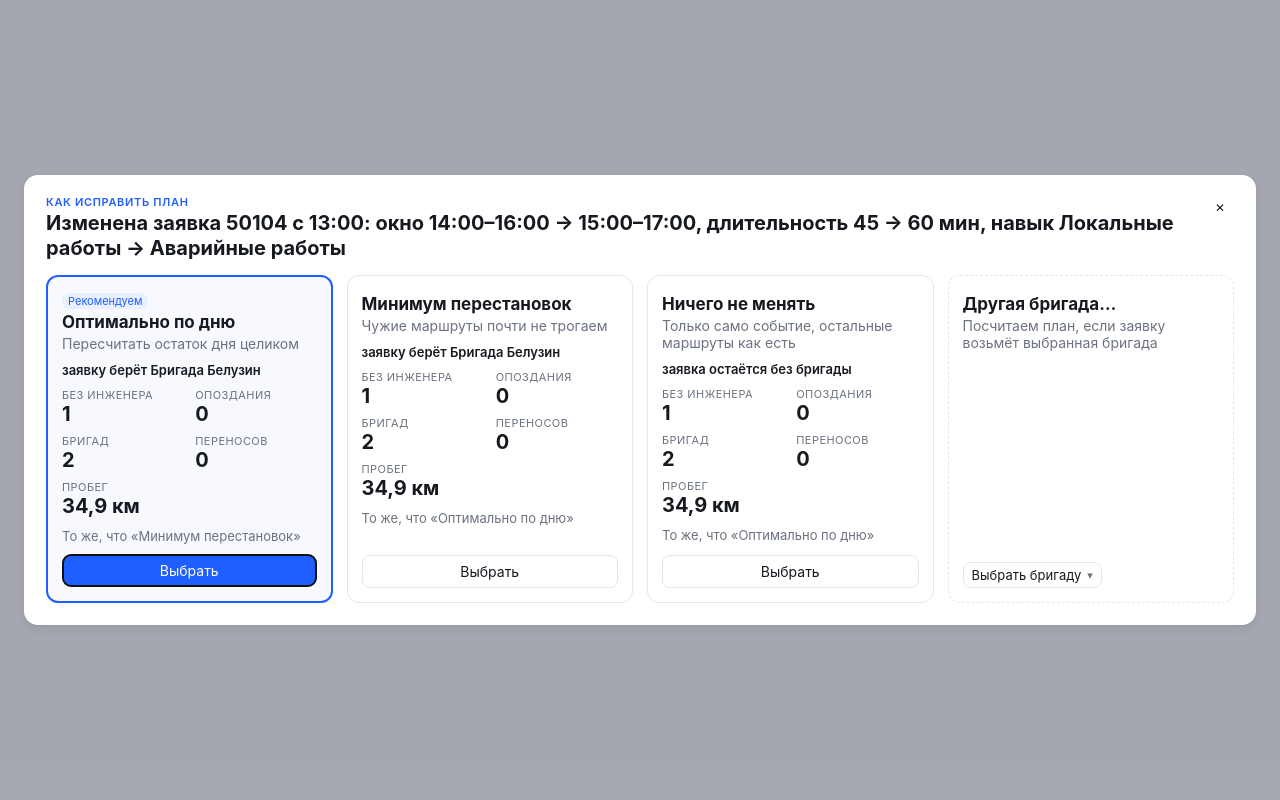
Test: ChoiceDialog: отдать заявку бригаде › offers the fourth card and names the brigade for an edit of a request, like for an urgent one
Expected: the text "заявку берёт Бригада Белузин" below "Пересчитать остаток дня целиком" is shown, [62,362,261,378]
Expected: the text "заявка остаётся без бригады" is shown, [662,361,852,377]
// Список бригад судит по заявке после изменения: без аварийного навыка её не взять.
Click the button "Выбрать бригаду ▾" at (1032, 575), box [962,562,1102,588]
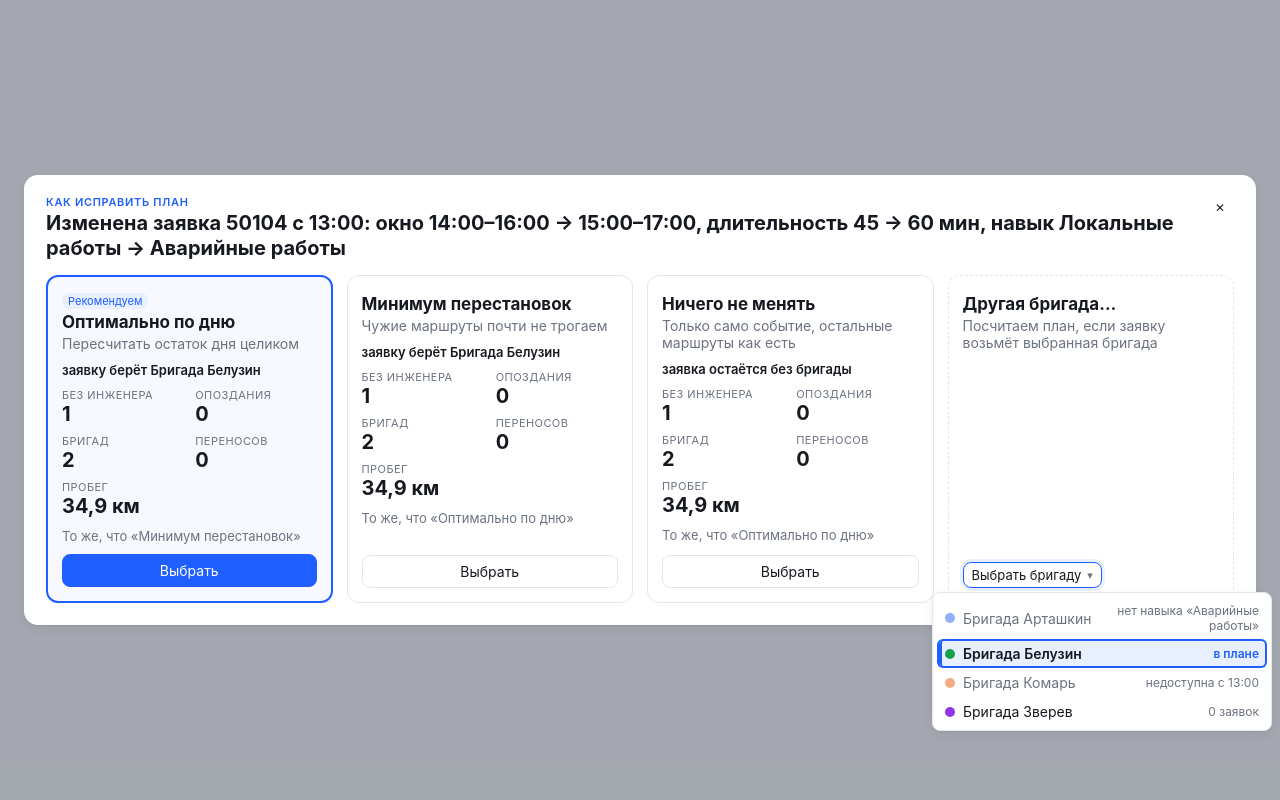
Now the options read "Бригада Арташкиннет навыка «Аварийные работы»", "Бригада Белузинв плане", "Бригада Комарьнедоступна с 13:00", "Бригада Зверев0 заявок", in this order, box [937,597,1267,639]; [937,639,1267,668]; [945,674,1259,691]; [945,703,1259,720]
